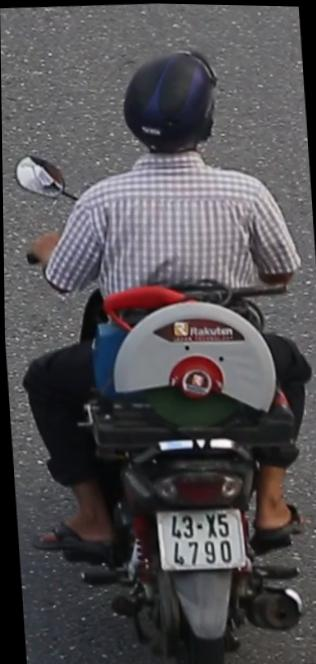LP: (149, 495, 248, 577)
helmet: (114, 43, 225, 175)
